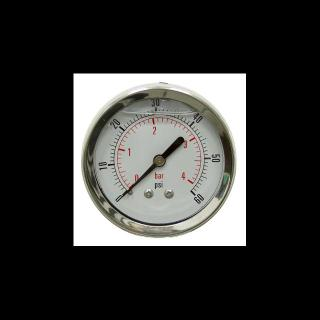gauge: (74, 74, 246, 246), (116, 185, 132, 203), (186, 186, 202, 202), (152, 153, 166, 167), (119, 190, 128, 200)
